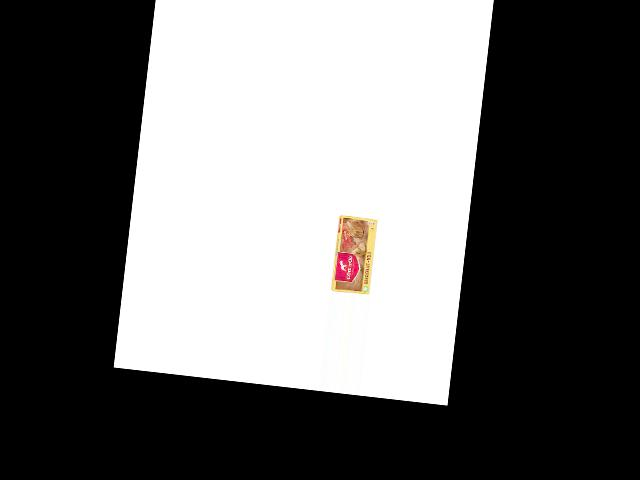chocolate: (328, 213, 384, 295)
